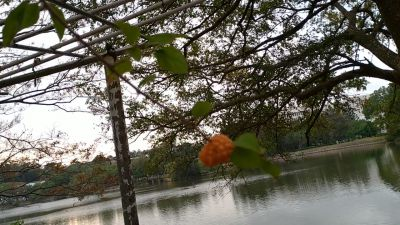eggs: (200, 133, 234, 168)
